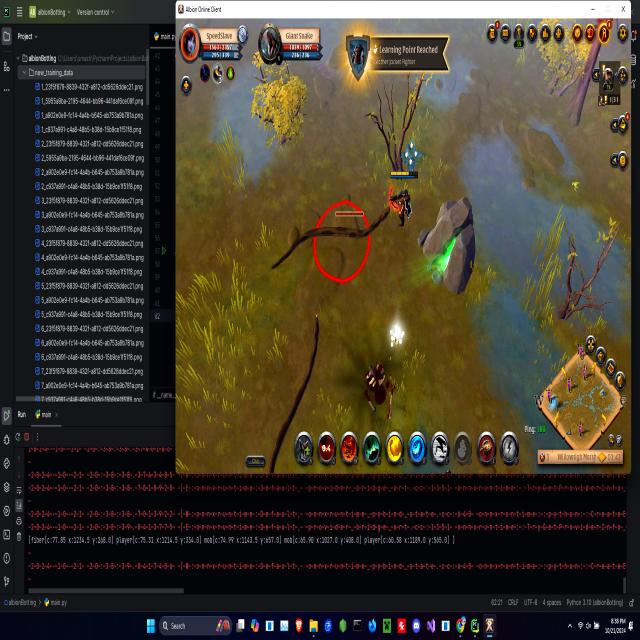hide: (400, 138, 424, 177)
ore: (272, 191, 392, 293), (263, 304, 329, 474)
red: (387, 168, 420, 249)
stone: (390, 322, 407, 350)
